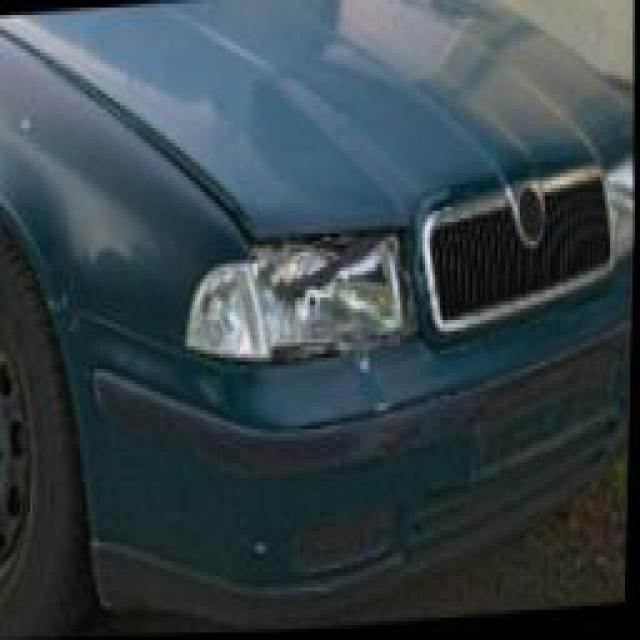Light: (185, 241, 413, 365)
